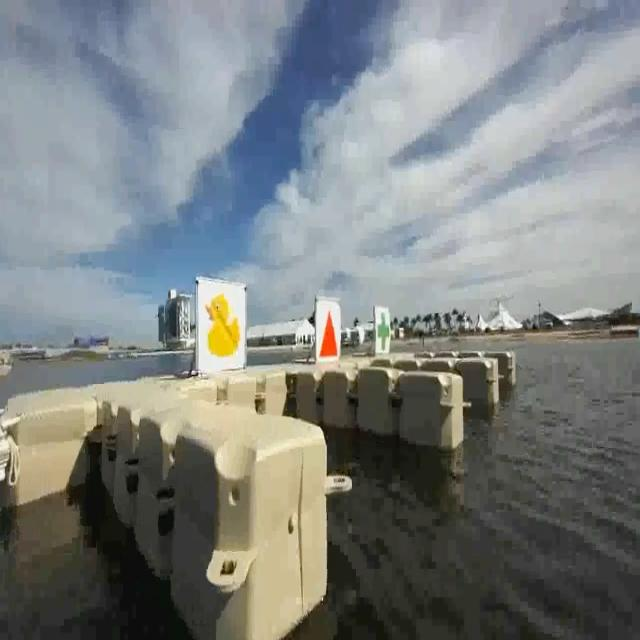blue-cross: (374, 304, 394, 358)
yellow-duck: (197, 278, 250, 380)
